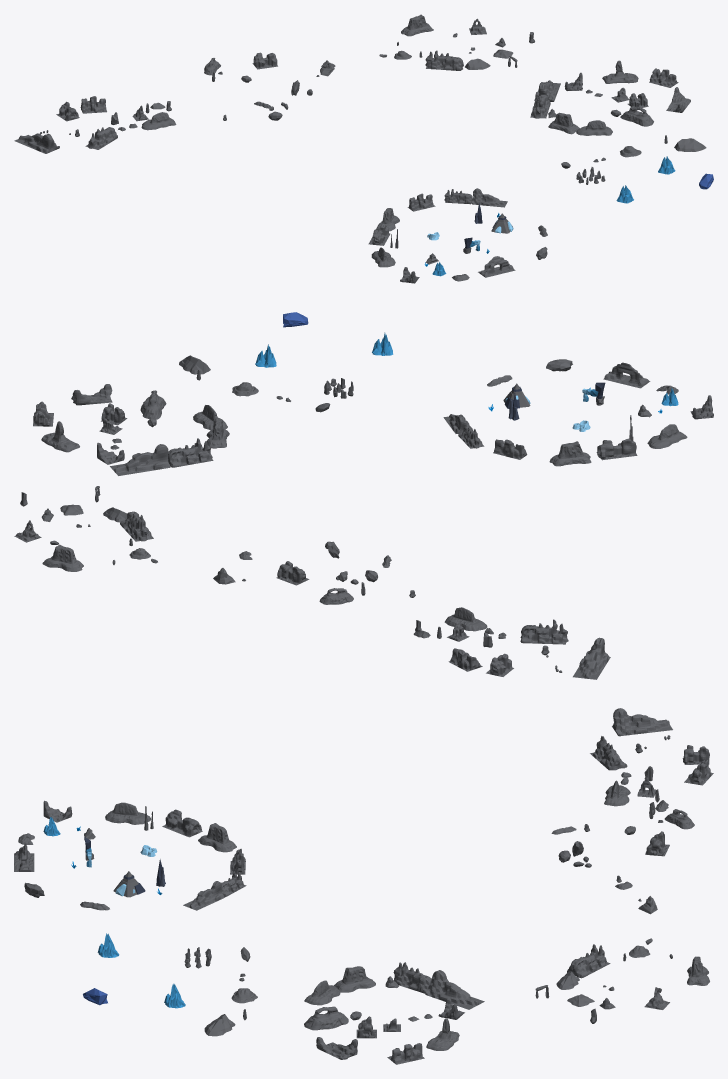
The model's file is batu.fbx.
3 views of the same model, one above another, from view 1: azimuth 30°, elevation 25°; view 2: azimuth 150°, elevation 25°; view 3: azimuth 270°, elevation 25° (orthographic). The views are drawn at different scales.
Visible parts, largest first — view 1: Mountain_desert_008.001, Mountain_desert_007, Mountain_desert_010.001, Mountain_desert_008, Plateau_desert_004.001; view 2: Mountain_desert_007.001, Mountain_desert_008, Mountain_desert_007, Mountain_desert_008.002, Mountain_desert_010.001, Plateau_desert_002, Plateau_desert_002.002, Mountain_desert_002.003, Mountain_desert_008.001, Plateau_desert_005; view 3: Mountain_desert_007, Mountain_desert_007.001, Mountain_desert_008.001, Plateau_desert_004.001, Mountain_desert_008.002, Plateau_desert_002.001, Plateau_desert_005.002, Mountain_desert_002.003, Plateau_desert_002.002, Mountain_desert_008, Mountain_desert_006.001, Mountain_desert_007.002 (+1 smaller).
Boxes of the visible parts, bbox=[...] form: Mountain_desert_008.001: bbox=[425, 50, 463, 70]; Mountain_desert_007: bbox=[14, 133, 59, 153]; Mountain_desert_010.001: bbox=[478, 256, 515, 277]; Mountain_desert_008: bbox=[85, 127, 117, 149]; Plateau_desert_004.001: bbox=[620, 106, 653, 126]; Mountain_desert_007.001: bbox=[110, 444, 170, 475]; Mountain_desert_008: bbox=[520, 619, 568, 644]; Mountain_desert_007: bbox=[573, 637, 610, 679]; Mountain_desert_008.002: bbox=[168, 438, 213, 467]; Mountain_desert_010.001: bbox=[603, 362, 650, 388]; Plateau_desert_002: bbox=[42, 544, 83, 571]; Plateau_desert_002.002: bbox=[549, 441, 591, 466]; Mountain_desert_002.003: bbox=[596, 438, 637, 460]; Mountain_desert_008.001: bbox=[120, 511, 153, 541]; Plateau_desert_005: bbox=[444, 607, 487, 631]; Mountain_desert_007: bbox=[612, 708, 672, 736]; Mountain_desert_007.001: bbox=[425, 970, 484, 1009]; Mountain_desert_008.001: bbox=[567, 944, 610, 978]; Plateau_desert_004.001: bbox=[304, 1006, 348, 1030]; Mountain_desert_008.002: bbox=[393, 962, 431, 993]; Plateau_desert_002.001: bbox=[334, 966, 375, 992]; Plateau_desert_005.002: bbox=[105, 802, 151, 824]; Mountain_desert_002.003: bbox=[162, 809, 202, 837]; Plateau_desert_002.002: bbox=[198, 823, 236, 852]; Mountain_desert_008: bbox=[590, 736, 627, 770]; Mountain_desert_006.001: bbox=[316, 1037, 357, 1059]; Mountain_desert_007.002: bbox=[183, 881, 225, 910].
Bounding box in the file's own units: 92579 × 5406 × 79281.
